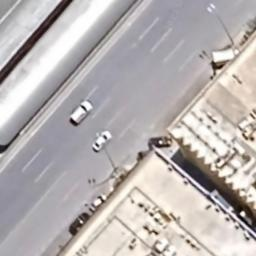sedan: (90, 128, 112, 154)
truck: (67, 95, 95, 127)
